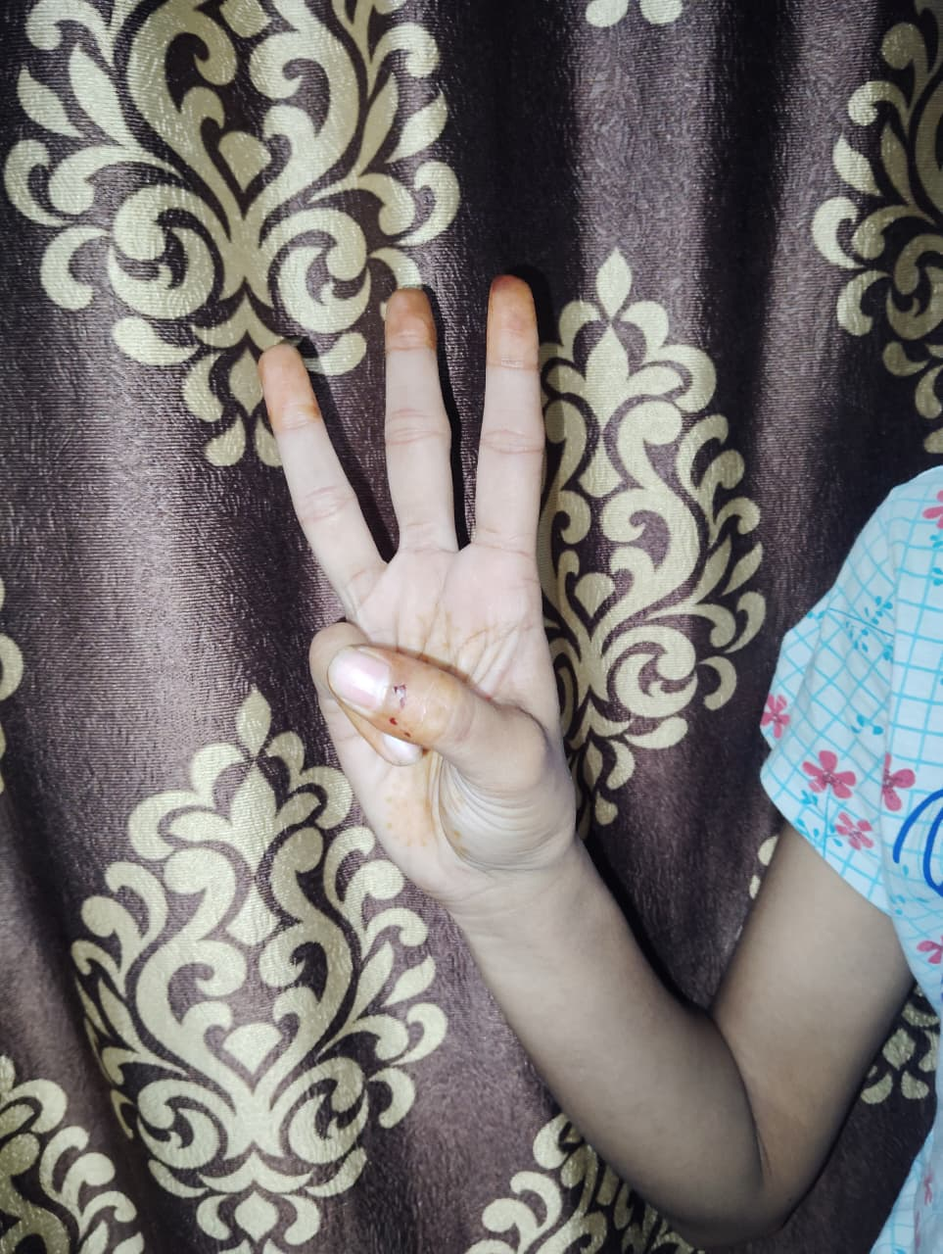W: (259, 277, 561, 839)
